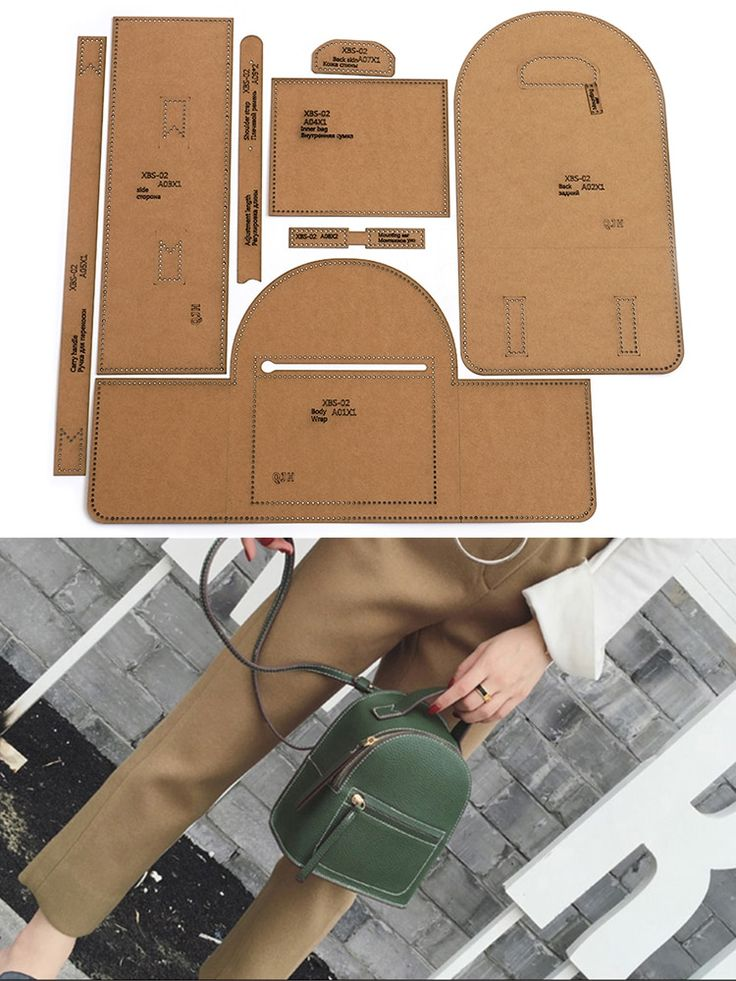cuero: (202, 539, 488, 909)
